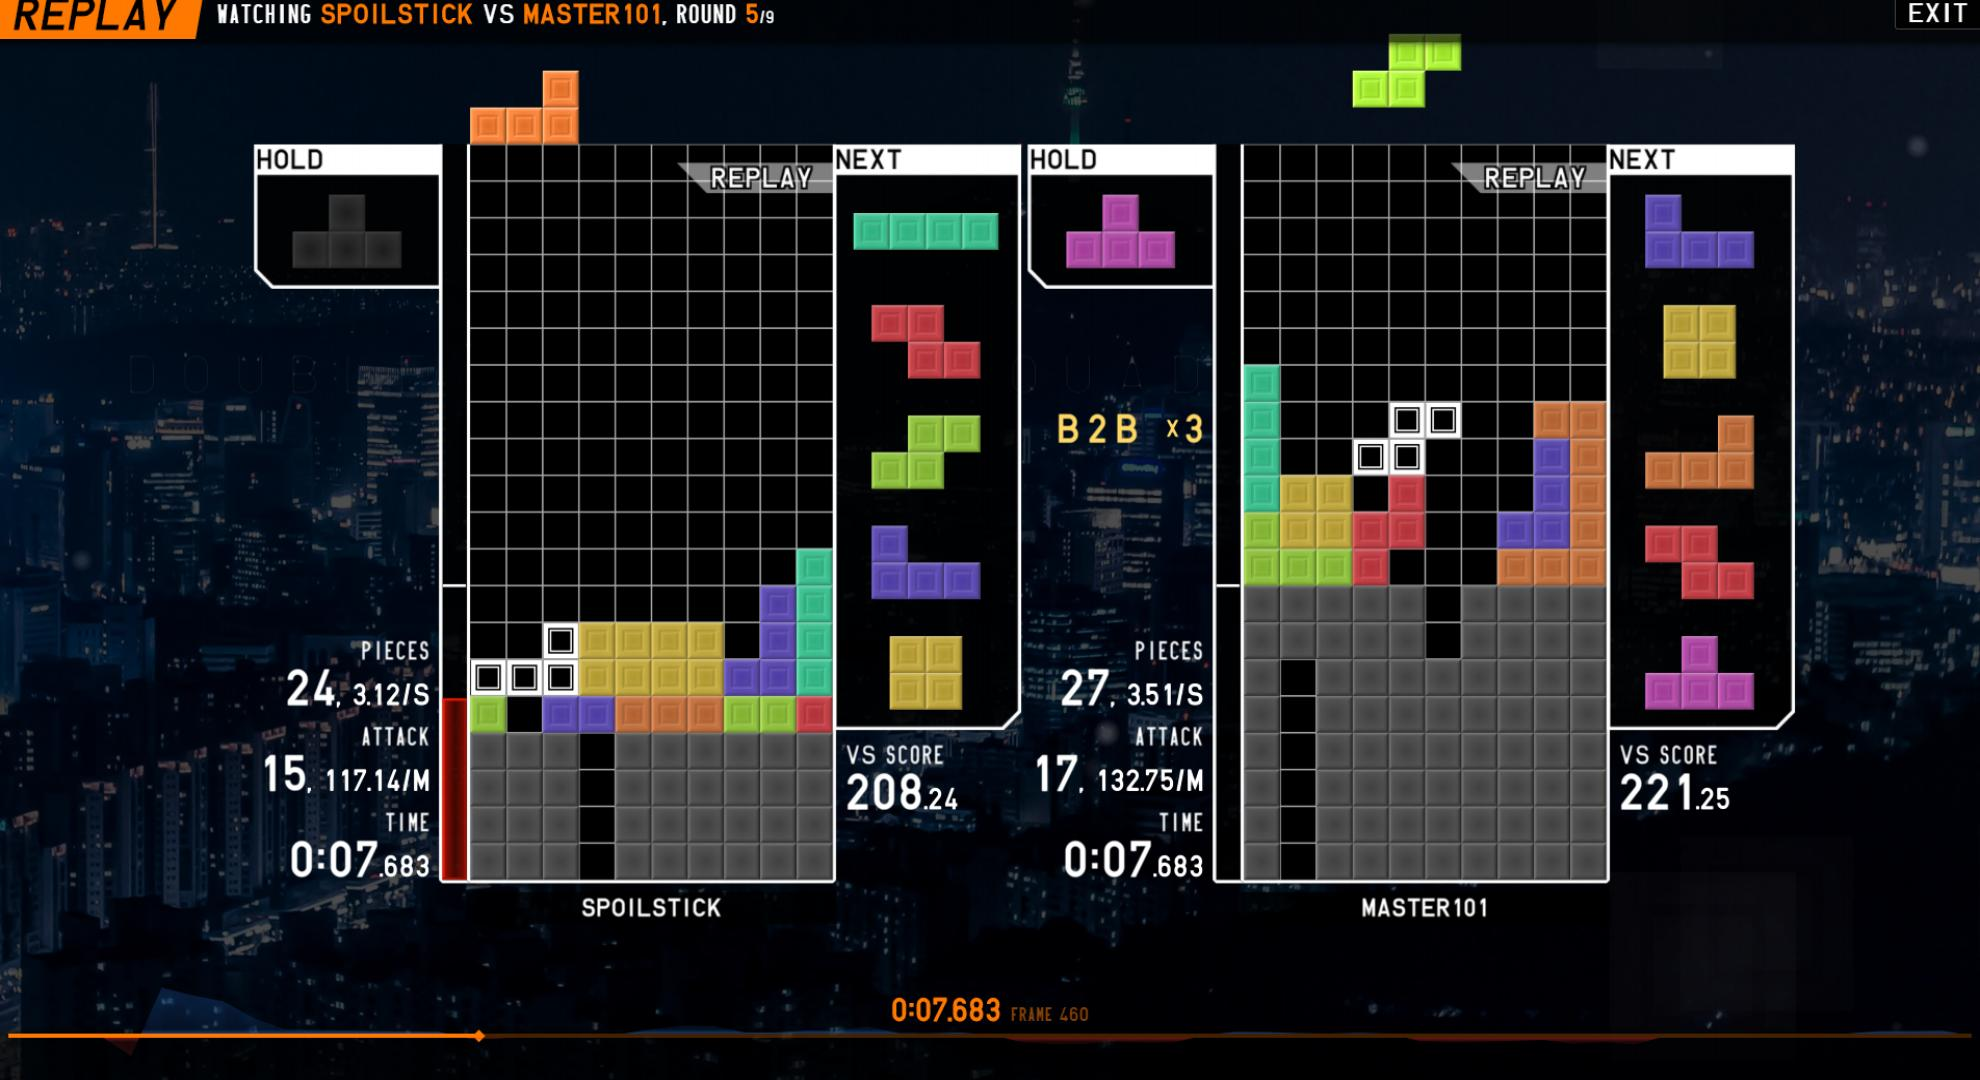tspin: (1387, 512, 1507, 622)
